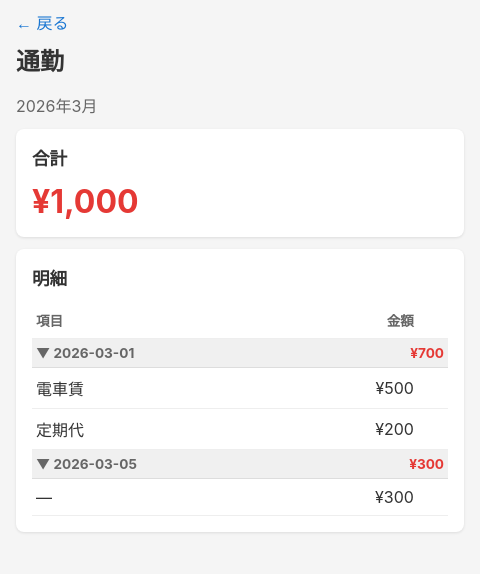
Scenario: TagDetails › 取消ボタンで編集モードを終了する
Click the text "電車賃": (137, 388) [32,368,242,408]
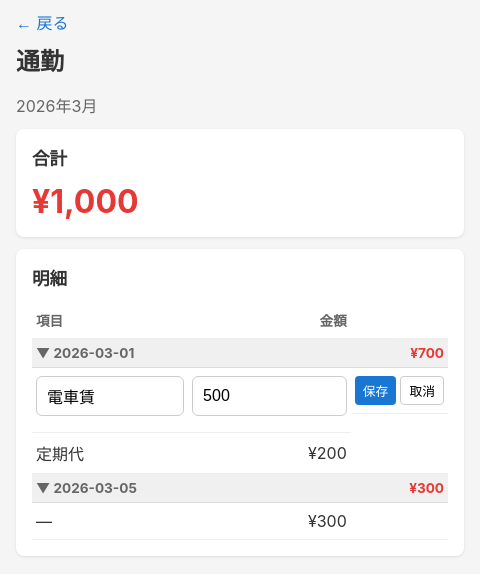
Click the button "取消": (422, 390) [400,376,444,405]
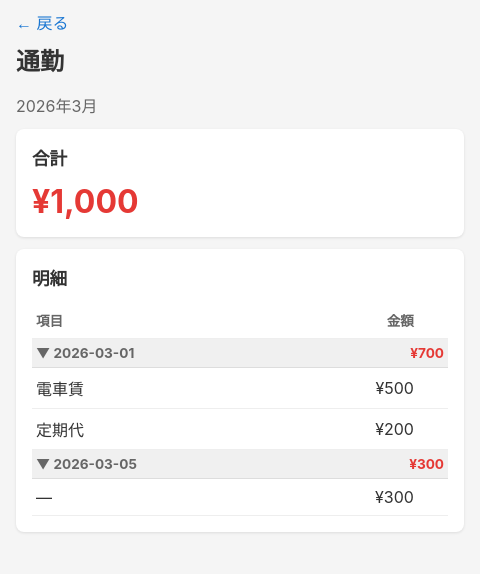
Expected: the text "電車賃" is shown, [32,368,242,408]
